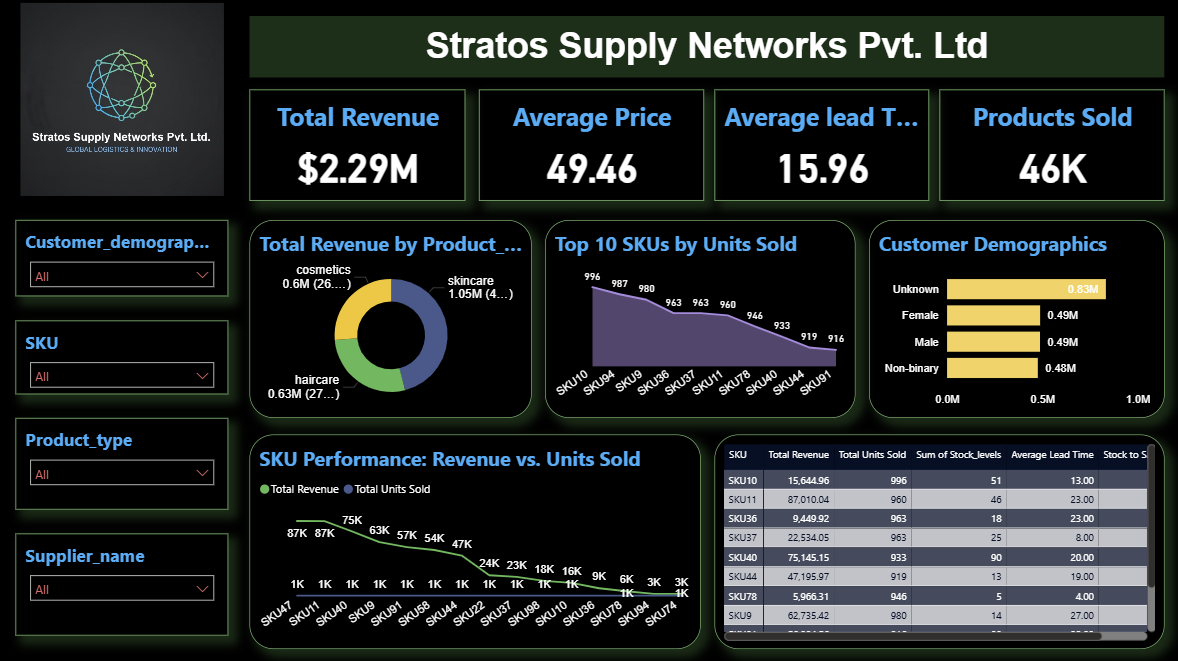

Layout of this report page (visuals, bound fields, positions):
{"tool":"powerbi","page":{"name":"Dashboard","canvas":[1280,720],"ordinal":0},"visuals":[{"type":"donutChart","fields":{"Category":["Table11.Product_type"],"Y":["Table11.Total Revenue"]},"box":[271.6,240.7,305.8,214.7],"z":0},{"type":"slicer","title":"SKU","fields":{"Values":["Table11.SKU"]},"box":[17.9,349.7,231,79.7],"z":1000},{"type":"stackedAreaChart","title":"Top 10 SKUs by Units Sold","fields":{"Category":["Table11.SKU"],"Y":["Table11.Total Units Sold"]},"box":[592.1,240.7,336.7,214.7],"z":2000},{"type":"lineChart","title":"SKU Performance: Revenue vs. Units Sold","fields":{"Category":["Table11.SKU"],"Y":["Table11.Total Revenue","Table11.Total Units Sold"]},"box":[271.6,473.3,489.6,232.6],"z":3000},{"type":"card","title":"Total Revenue","fields":{"Values":["Table11.Total Revenue"]},"box":[271.6,99.2,234.2,120.4],"z":4000},{"type":"slicer","title":"Product_type","fields":{"Values":["Table11.Product_type"]},"box":[17.9,455.4,231,99.2],"z":5000},{"type":"slicer","title":"Supplier_name","fields":{"Values":["Table11.Supplier_name"]},"box":[17.9,580.7,231,110.6],"z":6000},{"type":"slicer","title":"Customer_demographics","fields":{"Values":["Table11.Customer_demographics"]},"box":[17.9,240.7,231,83],"z":7000},{"type":"barChart","title":"Customer Demographics","fields":{"Y":["Table11.Total Revenue"],"Category":["Table11.Customer_demographics"]},"box":[943.4,240.7,320.4,214.7],"z":8000},{"type":"shape","title":"Stratos Supply Networks Pvt. Ltd","box":[271.6,19.5,992.2,66.7],"z":9000},{"type":"card","title":"Average Price","fields":{"Values":["Table11.Average Price"]},"box":[520.5,99.2,244,120.4],"z":10000},{"type":"card","title":"Average lead Time","fields":{"Values":["Table11.Average Lead Time"]},"box":[775.9,99.2,232.6,120.4],"z":11000},{"type":"card","title":"Products Sold","fields":{"Values":["Sum(Table11.Number_of_products_sold)"]},"box":[1019.8,99.2,244,120.4],"z":12000},{"type":"image","box":[17.9,0,231,219.6],"z":13000},{"type":"pivotTable","title":"Top 10 SKUs by Units Sold","fields":{"Rows":["Table11.SKU"],"Values":["Table11.Total Revenue","Table11.Total Units Sold","Sum(Table11.Stock_levels)","Table11.Average Lead Time","Table11.Stock to Sales Ratio"]},"box":[775.9,473.3,488,232.6],"z":14000}]}

Visuals, with their boxes in screenshot pixels (x1, y1, x2, y2), scaled from the page's 1280x720 canvas onto the 1178x661 screenshot:
donutChart - Table11.Product_type x Table11.Total Revenue: bbox(250, 221, 531, 418)
"SKU" slicer: bbox(16, 321, 229, 394)
"Top 10 SKUs by Units Sold" stackedAreaChart: bbox(545, 221, 855, 418)
"SKU Performance: Revenue vs. Units Sold" lineChart: bbox(250, 435, 701, 648)
"Total Revenue" card: bbox(250, 91, 465, 202)
"Product_type" slicer: bbox(16, 418, 229, 509)
"Supplier_name" slicer: bbox(16, 533, 229, 635)
"Customer_demographics" slicer: bbox(16, 221, 229, 297)
"Customer Demographics" barChart: bbox(868, 221, 1163, 418)
"Stratos Supply Networks Pvt. Ltd" shape: bbox(250, 18, 1163, 79)
"Average Price" card: bbox(479, 91, 704, 202)
"Average lead Time" card: bbox(714, 91, 928, 202)
"Products Sold" card: bbox(939, 91, 1163, 202)
image: bbox(16, 0, 229, 202)
"Top 10 SKUs by Units Sold" pivotTable: bbox(714, 435, 1163, 648)
